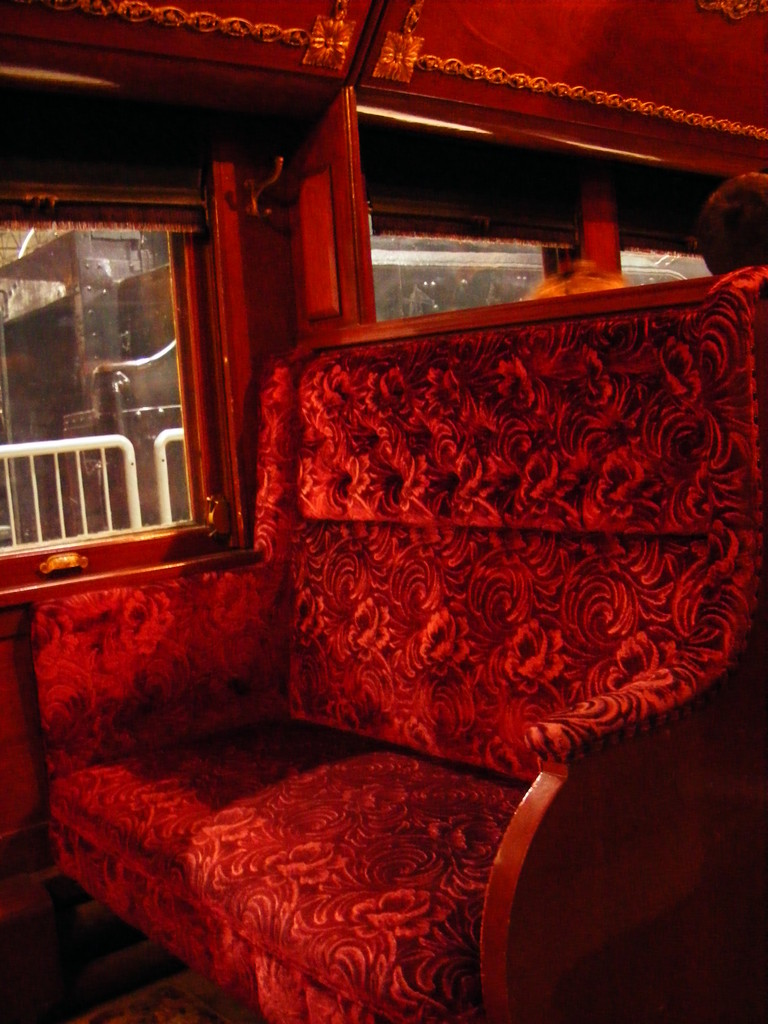Couch: (22, 260, 767, 1023)
